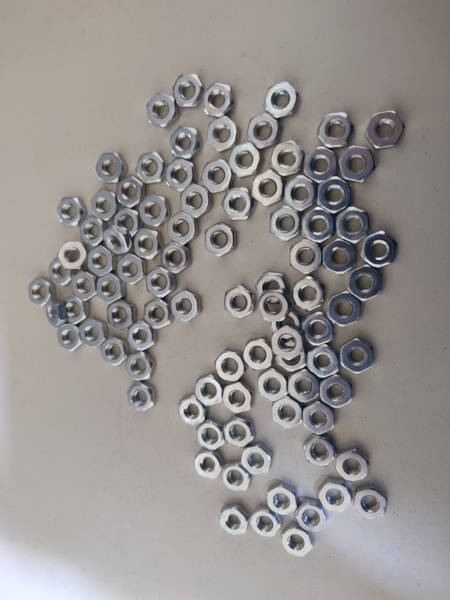nut: (365, 111, 405, 151), (304, 145, 344, 185), (336, 446, 374, 484), (341, 147, 380, 184), (360, 232, 399, 269), (299, 206, 335, 246), (285, 369, 324, 405), (318, 112, 356, 148), (264, 82, 302, 118), (270, 140, 305, 178), (318, 178, 353, 215), (265, 481, 300, 518), (247, 112, 279, 152), (348, 265, 384, 300), (303, 403, 339, 438), (250, 169, 284, 206), (337, 206, 373, 240), (354, 486, 388, 522), (229, 142, 261, 180), (272, 325, 306, 360), (204, 222, 237, 258), (218, 502, 250, 539), (270, 205, 300, 244), (224, 286, 258, 320), (139, 193, 172, 228), (342, 337, 374, 373), (318, 376, 354, 408), (258, 288, 290, 323), (55, 240, 90, 272), (283, 175, 314, 211), (296, 499, 327, 535), (170, 287, 201, 323), (303, 435, 336, 468), (318, 479, 350, 513), (308, 344, 339, 379), (201, 160, 232, 195), (281, 524, 312, 559), (325, 239, 355, 275), (244, 338, 274, 374), (204, 84, 236, 117), (160, 242, 192, 275), (146, 94, 176, 129), (116, 253, 146, 288), (88, 190, 118, 225), (241, 445, 274, 476), (131, 229, 164, 260), (222, 188, 252, 222), (207, 118, 237, 152), (250, 507, 280, 541), (215, 348, 244, 383), (195, 373, 224, 408), (174, 73, 202, 109), (331, 294, 363, 325), (177, 396, 208, 428), (182, 184, 212, 217), (108, 299, 138, 332), (143, 296, 172, 330), (297, 277, 325, 312), (224, 380, 252, 415), (169, 212, 197, 247), (290, 242, 321, 273), (169, 125, 201, 155), (167, 158, 194, 193), (96, 152, 127, 182), (127, 382, 157, 413), (71, 271, 101, 302), (225, 418, 254, 450), (305, 312, 333, 345), (258, 371, 287, 402), (116, 176, 145, 207), (278, 343, 306, 375), (79, 317, 105, 351), (259, 274, 288, 304), (128, 352, 157, 382), (46, 258, 75, 288), (273, 398, 301, 429), (100, 335, 128, 366), (103, 226, 131, 257), (223, 462, 250, 494), (137, 152, 164, 184), (27, 278, 53, 311), (274, 308, 302, 338), (95, 273, 123, 303), (86, 247, 112, 279), (114, 210, 139, 243), (79, 217, 105, 248), (58, 195, 82, 228), (62, 299, 90, 327), (129, 322, 153, 354), (146, 269, 172, 298), (193, 454, 220, 481), (56, 325, 80, 353), (197, 424, 219, 453)
